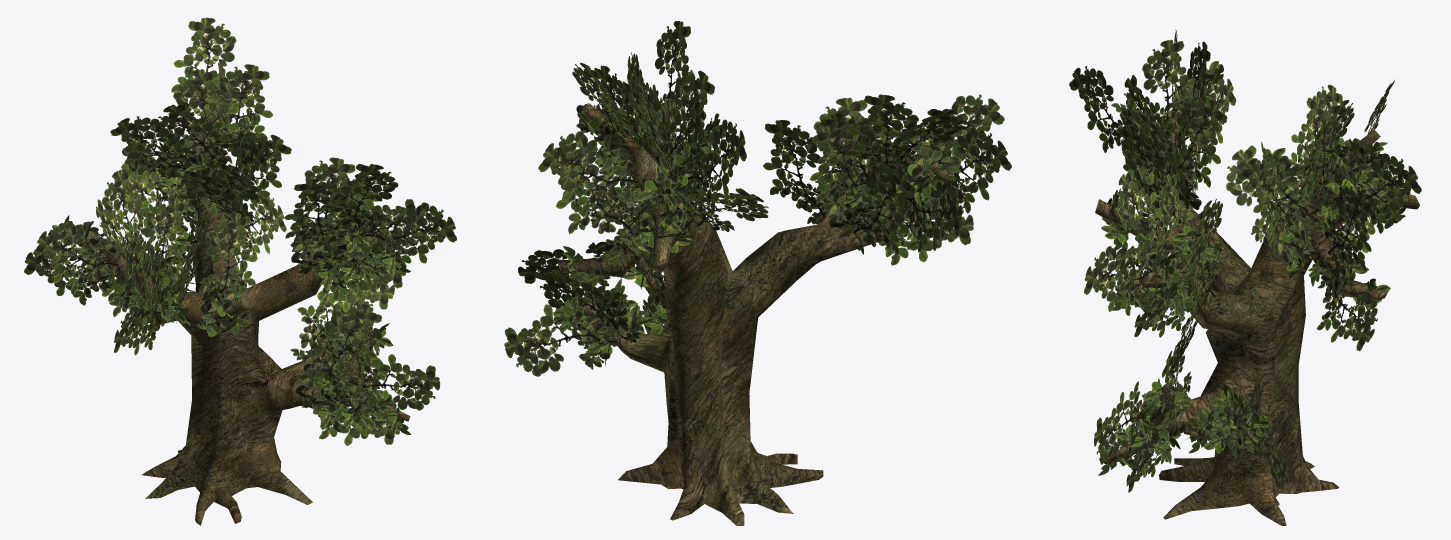
The model's file is tree4LOD.FBX.
The picture shows the model from 3 angles, left to right: view 1: azimuth 30°, elevation 25°; view 2: azimuth 150°, elevation 25°; view 3: azimuth 270°, elevation 25°; orthographic projection. The views are drawn at different scales.
Parts seen in each view (by area): view 1: Plane2157, tree4uv; view 2: Plane2157, tree4uv; view 3: Plane2157, tree4uv.
Part boxes in pixels (bbox=[...]): Plane2157: bbox=[24, 17, 456, 445]; tree4uv: bbox=[48, 63, 410, 525]; Plane2157: bbox=[504, 21, 1011, 376]; tree4uv: bbox=[556, 103, 949, 525]; Plane2157: bbox=[1069, 29, 1421, 492]; tree4uv: bbox=[1095, 64, 1419, 525].
Bounding box in the file's own units: 997 × 744 × 944.
